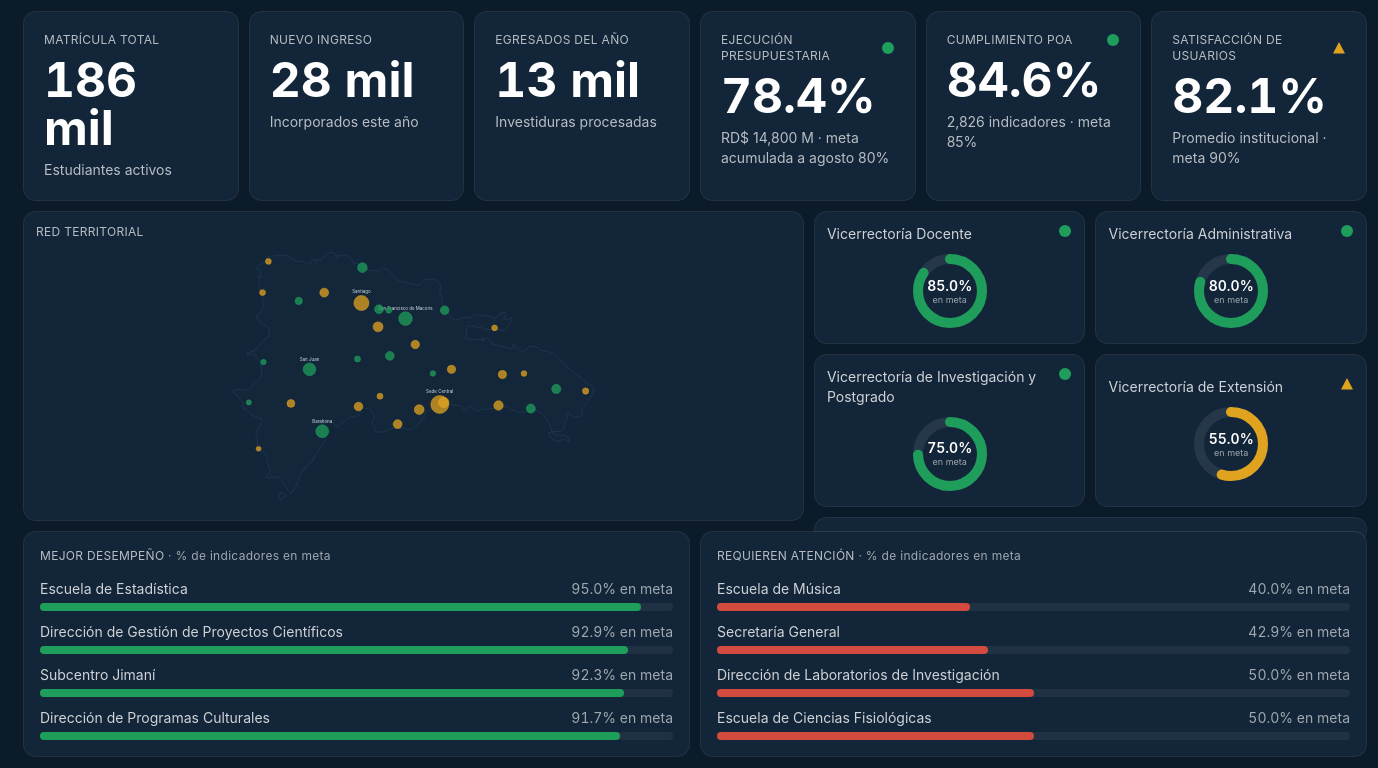
Test: Rectoral › al hacer clic en una vicerrectoría filtra a esa unidad
Click the button "Vicerrectoría de Extensión 55.0% en meta".
click(1231, 431)  # box top-left (1096, 355), bottom-right (1366, 506)
(page scrolled)
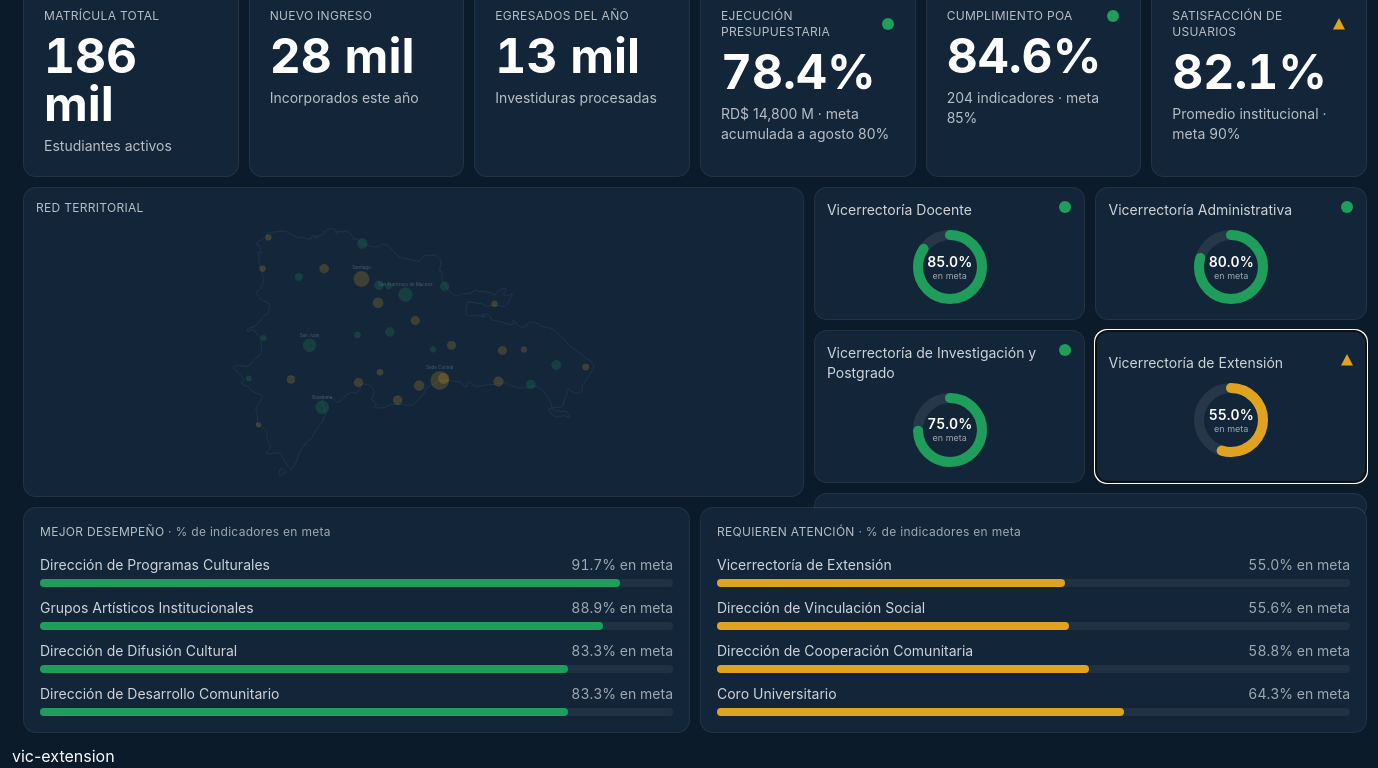
Check: the text with test id "espia" reads "vic-extension", box top-left (12, 746), bottom-right (115, 766)
